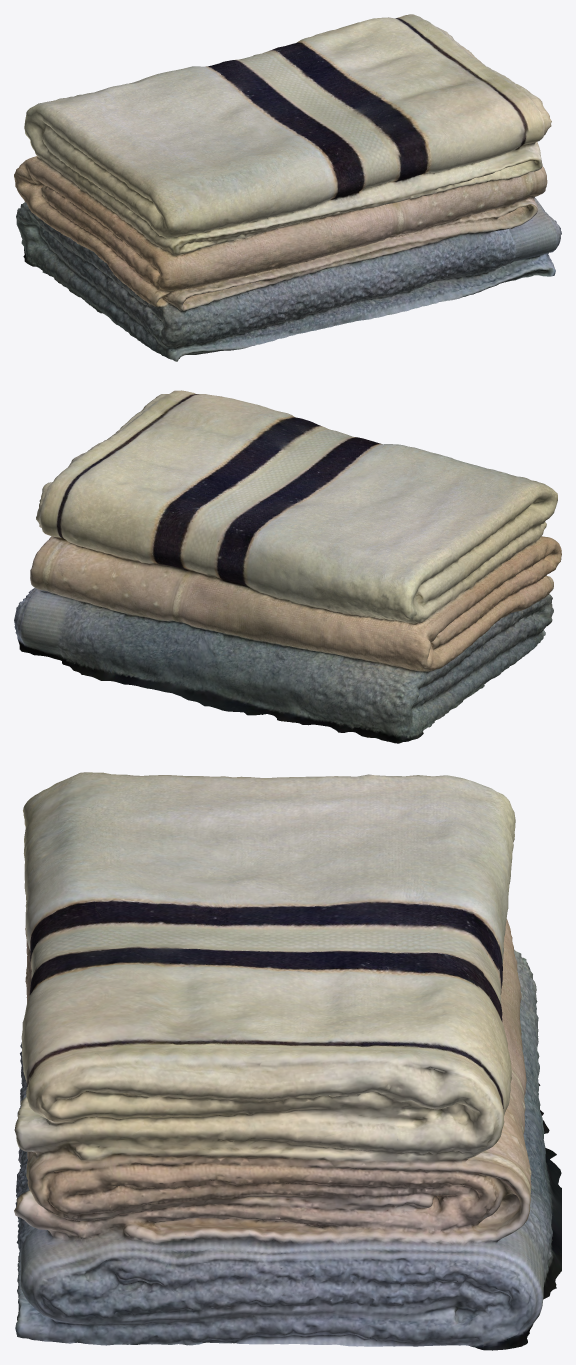
File: Folded Towels 2.fbx
3 views of the same model, one above another, from view 1: azimuth 30°, elevation 25°; view 2: azimuth 150°, elevation 25°; view 3: azimuth 270°, elevation 25° (orthographic). The views are drawn at different scales.
Visible parts, largest first — view 1: towels; view 2: towels; view 3: towels.
Part boxes in pixels (left/top/right/bottom): towels: left=14, top=14, right=561, bottom=361; towels: left=14, top=390, right=561, bottom=743; towels: left=14, top=772, right=561, bottom=1350.
Size of the model in its own units: 52.07 by 20.79 by 36.76.
1 material, 1 textured.
